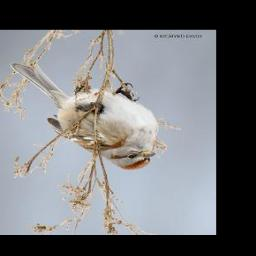Sparrow: (10, 63, 159, 171)
